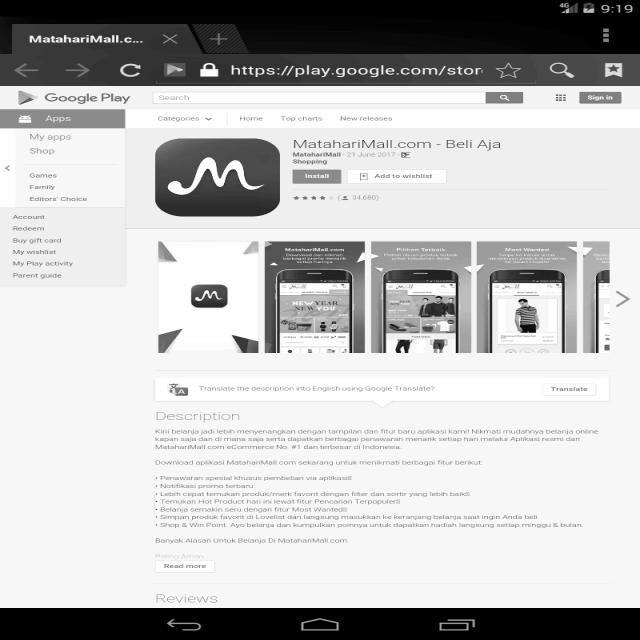Button: (1, 106, 128, 130), (538, 382, 600, 398), (289, 167, 344, 185), (154, 559, 216, 573), (577, 90, 627, 106)
EditText: (147, 89, 529, 107)
ImageButton: (544, 61, 582, 83), (492, 58, 529, 80), (117, 62, 151, 80), (601, 61, 631, 81), (161, 61, 193, 79), (12, 62, 46, 78), (62, 62, 94, 79), (199, 62, 226, 78), (593, 26, 616, 44), (553, 92, 569, 104)
ImageView: (160, 242, 614, 354), (152, 138, 285, 218)
TextView: (150, 409, 602, 533), (290, 136, 504, 160), (10, 212, 81, 280), (232, 62, 478, 80), (198, 383, 438, 393), (152, 588, 225, 605), (26, 144, 59, 156)
